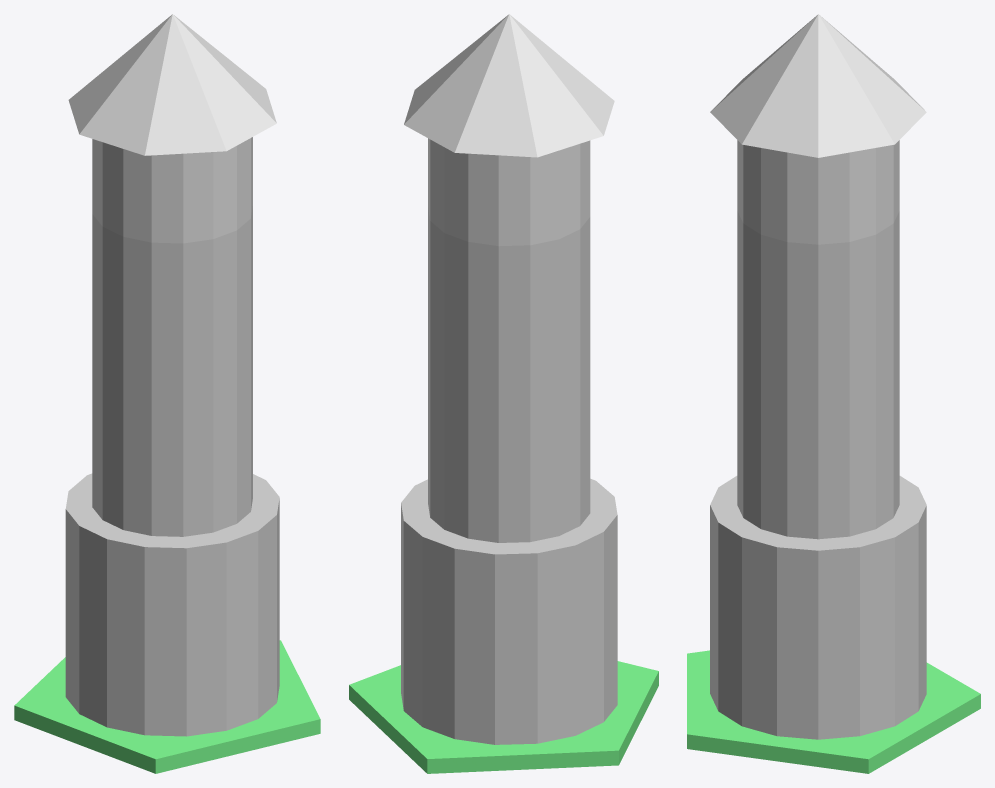
File: tower.glb
The picture shows the model from 3 angles, left to right: view 1: azimuth 30°, elevation 25°; view 2: azimuth 150°, elevation 25°; view 3: azimuth 270°, elevation 25°; orthographic projection.
Parts seen in each view (by area): view 1: Cylinder.002, Cylinder.001, Cone, Cylinder.003, Cylinder; view 2: Cylinder.002, Cylinder.001, Cone, Cylinder.003, Cylinder; view 3: Cylinder.002, Cylinder.001, Cone, Cylinder.003, Cylinder.
Boxes of the visible parts, box(x1,y1,x2,y2) form: Cylinder.002: box(92, 206, 252, 536); Cylinder.001: box(65, 473, 279, 736); Cone: box(68, 14, 276, 155); Cylinder.003: box(92, 137, 252, 243); Cylinder: box(14, 640, 320, 773); Cylinder.002: box(428, 208, 590, 542); Cylinder.001: box(401, 478, 617, 744); Cone: box(404, 14, 614, 157); Cylinder.003: box(428, 138, 590, 246); Cylinder: box(349, 661, 658, 773); Cylinder.002: box(737, 211, 899, 539); Cylinder.001: box(710, 476, 926, 739); Cone: box(710, 14, 926, 157); Cylinder.003: box(737, 140, 899, 244); Cylinder: box(687, 650, 980, 773).
Size of the model in its own units: 5.71 by 14.15 by 5.43.
